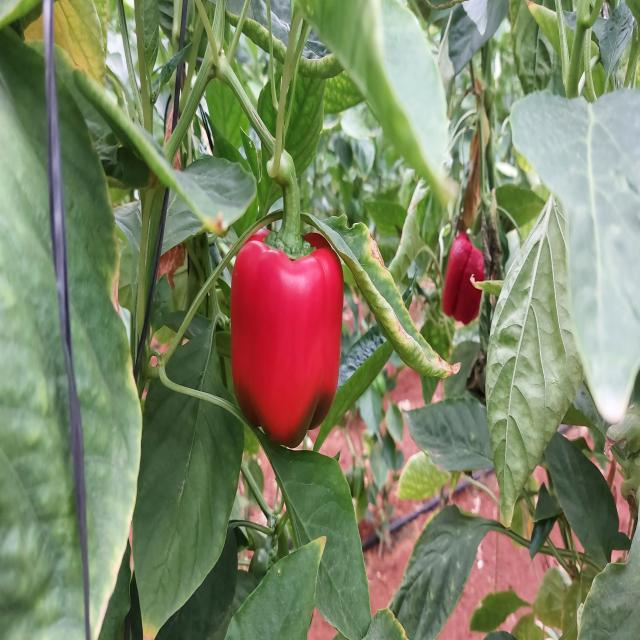Red-Ready-to-Harvest: (234, 226, 343, 447)
